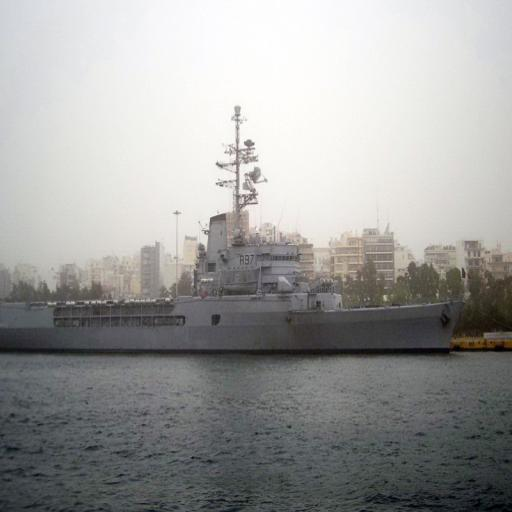Portanaves: (2, 104, 471, 357)
